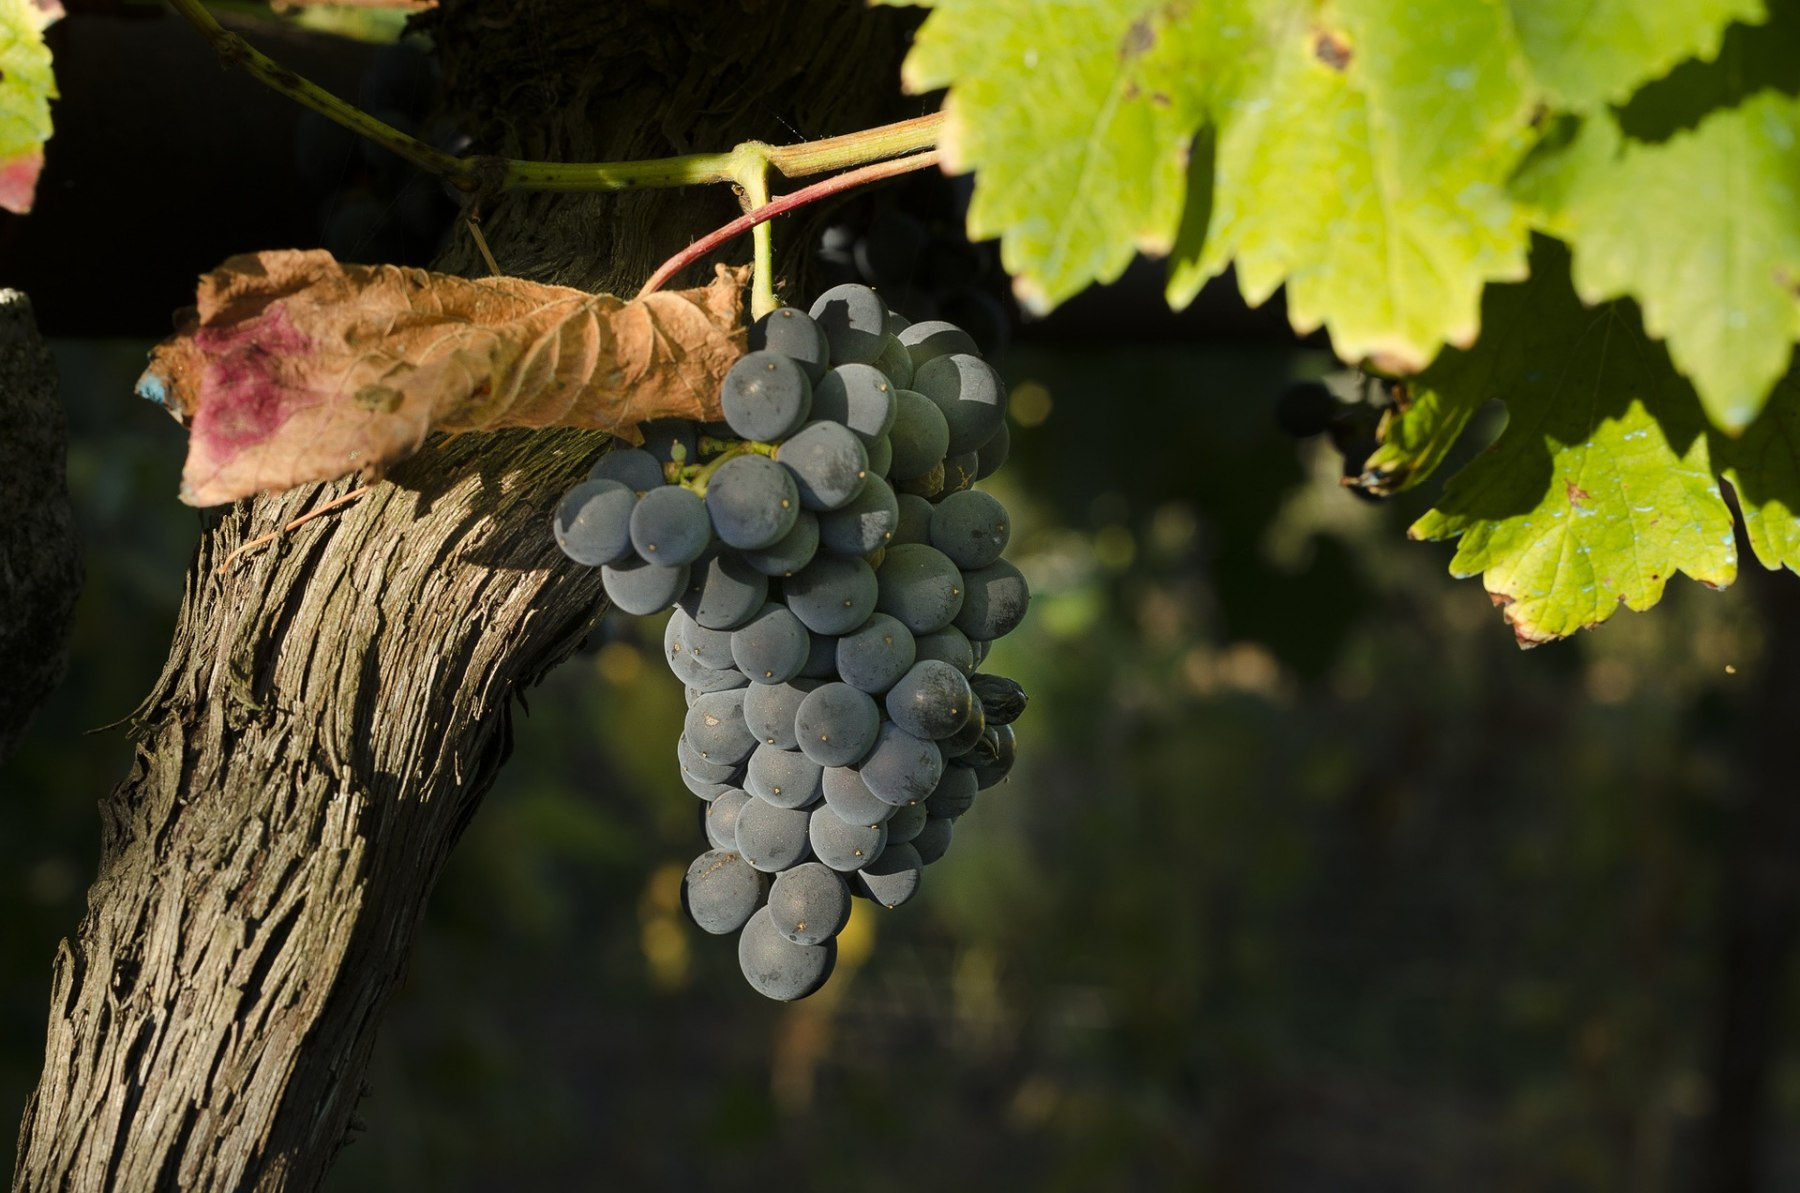Black grapes: (549, 269, 1058, 1007)
